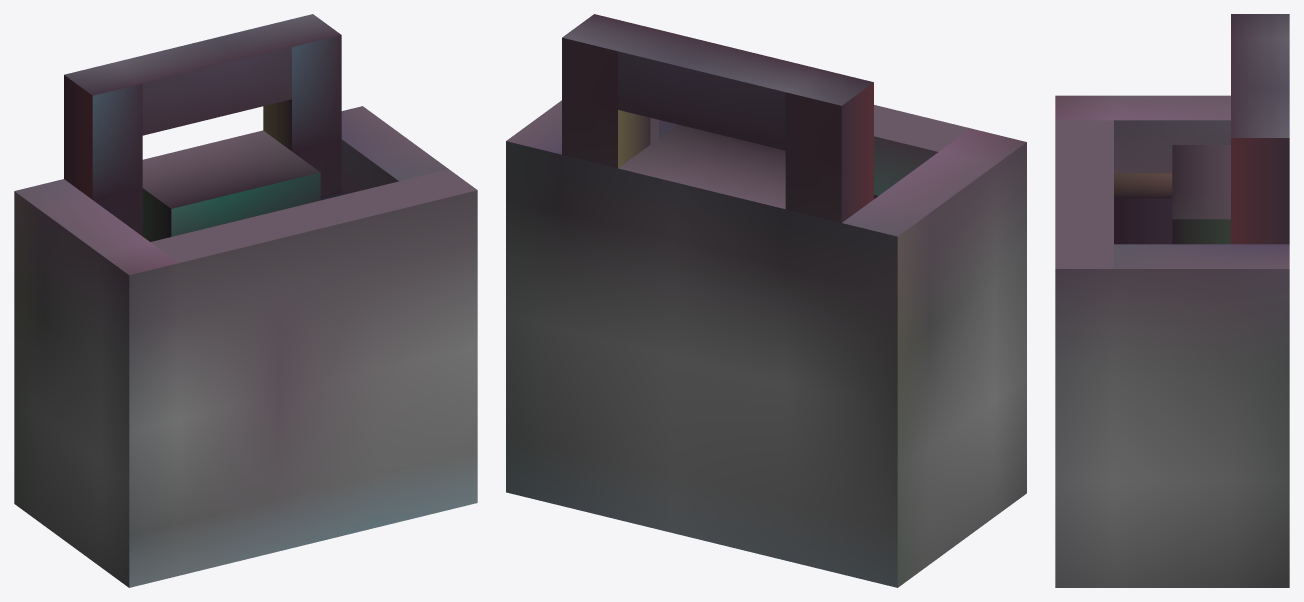
The model's file is Box_Pharmacy_B_00.fbx.
3 views of the same model, side by side, from view 1: azimuth 30°, elevation 25°; view 2: azimuth 150°, elevation 25°; view 3: azimuth 270°, elevation 25° (orthographic). The views are drawn at different scales.
Parts seen in each view (by area): view 1: Box_Pharmacy_B_00; view 2: Box_Pharmacy_B_00; view 3: Box_Pharmacy_B_00.
Part boxes in pixels (x1=…): Box_Pharmacy_B_00: x1=14, y1=14, x2=477, y2=587; Box_Pharmacy_B_00: x1=506, y1=14, x2=1026, y2=587; Box_Pharmacy_B_00: x1=1055, y1=14, x2=1289, y2=587.
Size of the model in its own units: 35 by 40 by 20.
